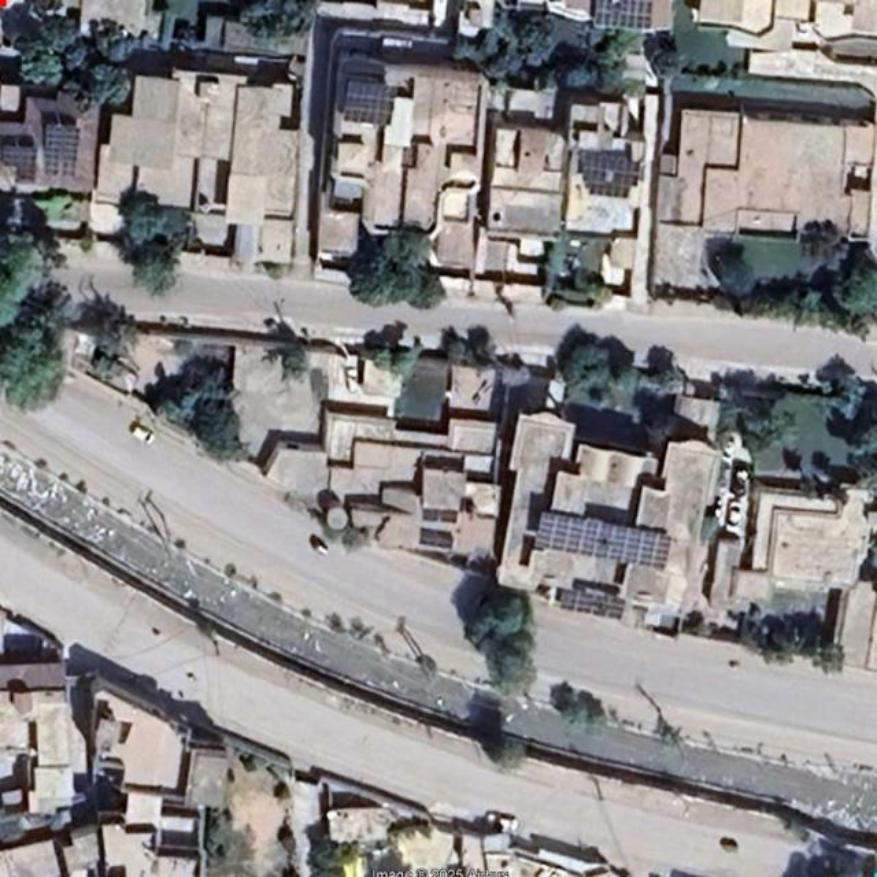Solarpanel: (532, 510, 672, 574), (580, 150, 641, 203), (342, 80, 399, 121), (44, 121, 85, 175), (558, 590, 625, 621), (594, 0, 654, 32), (1, 147, 38, 183)
